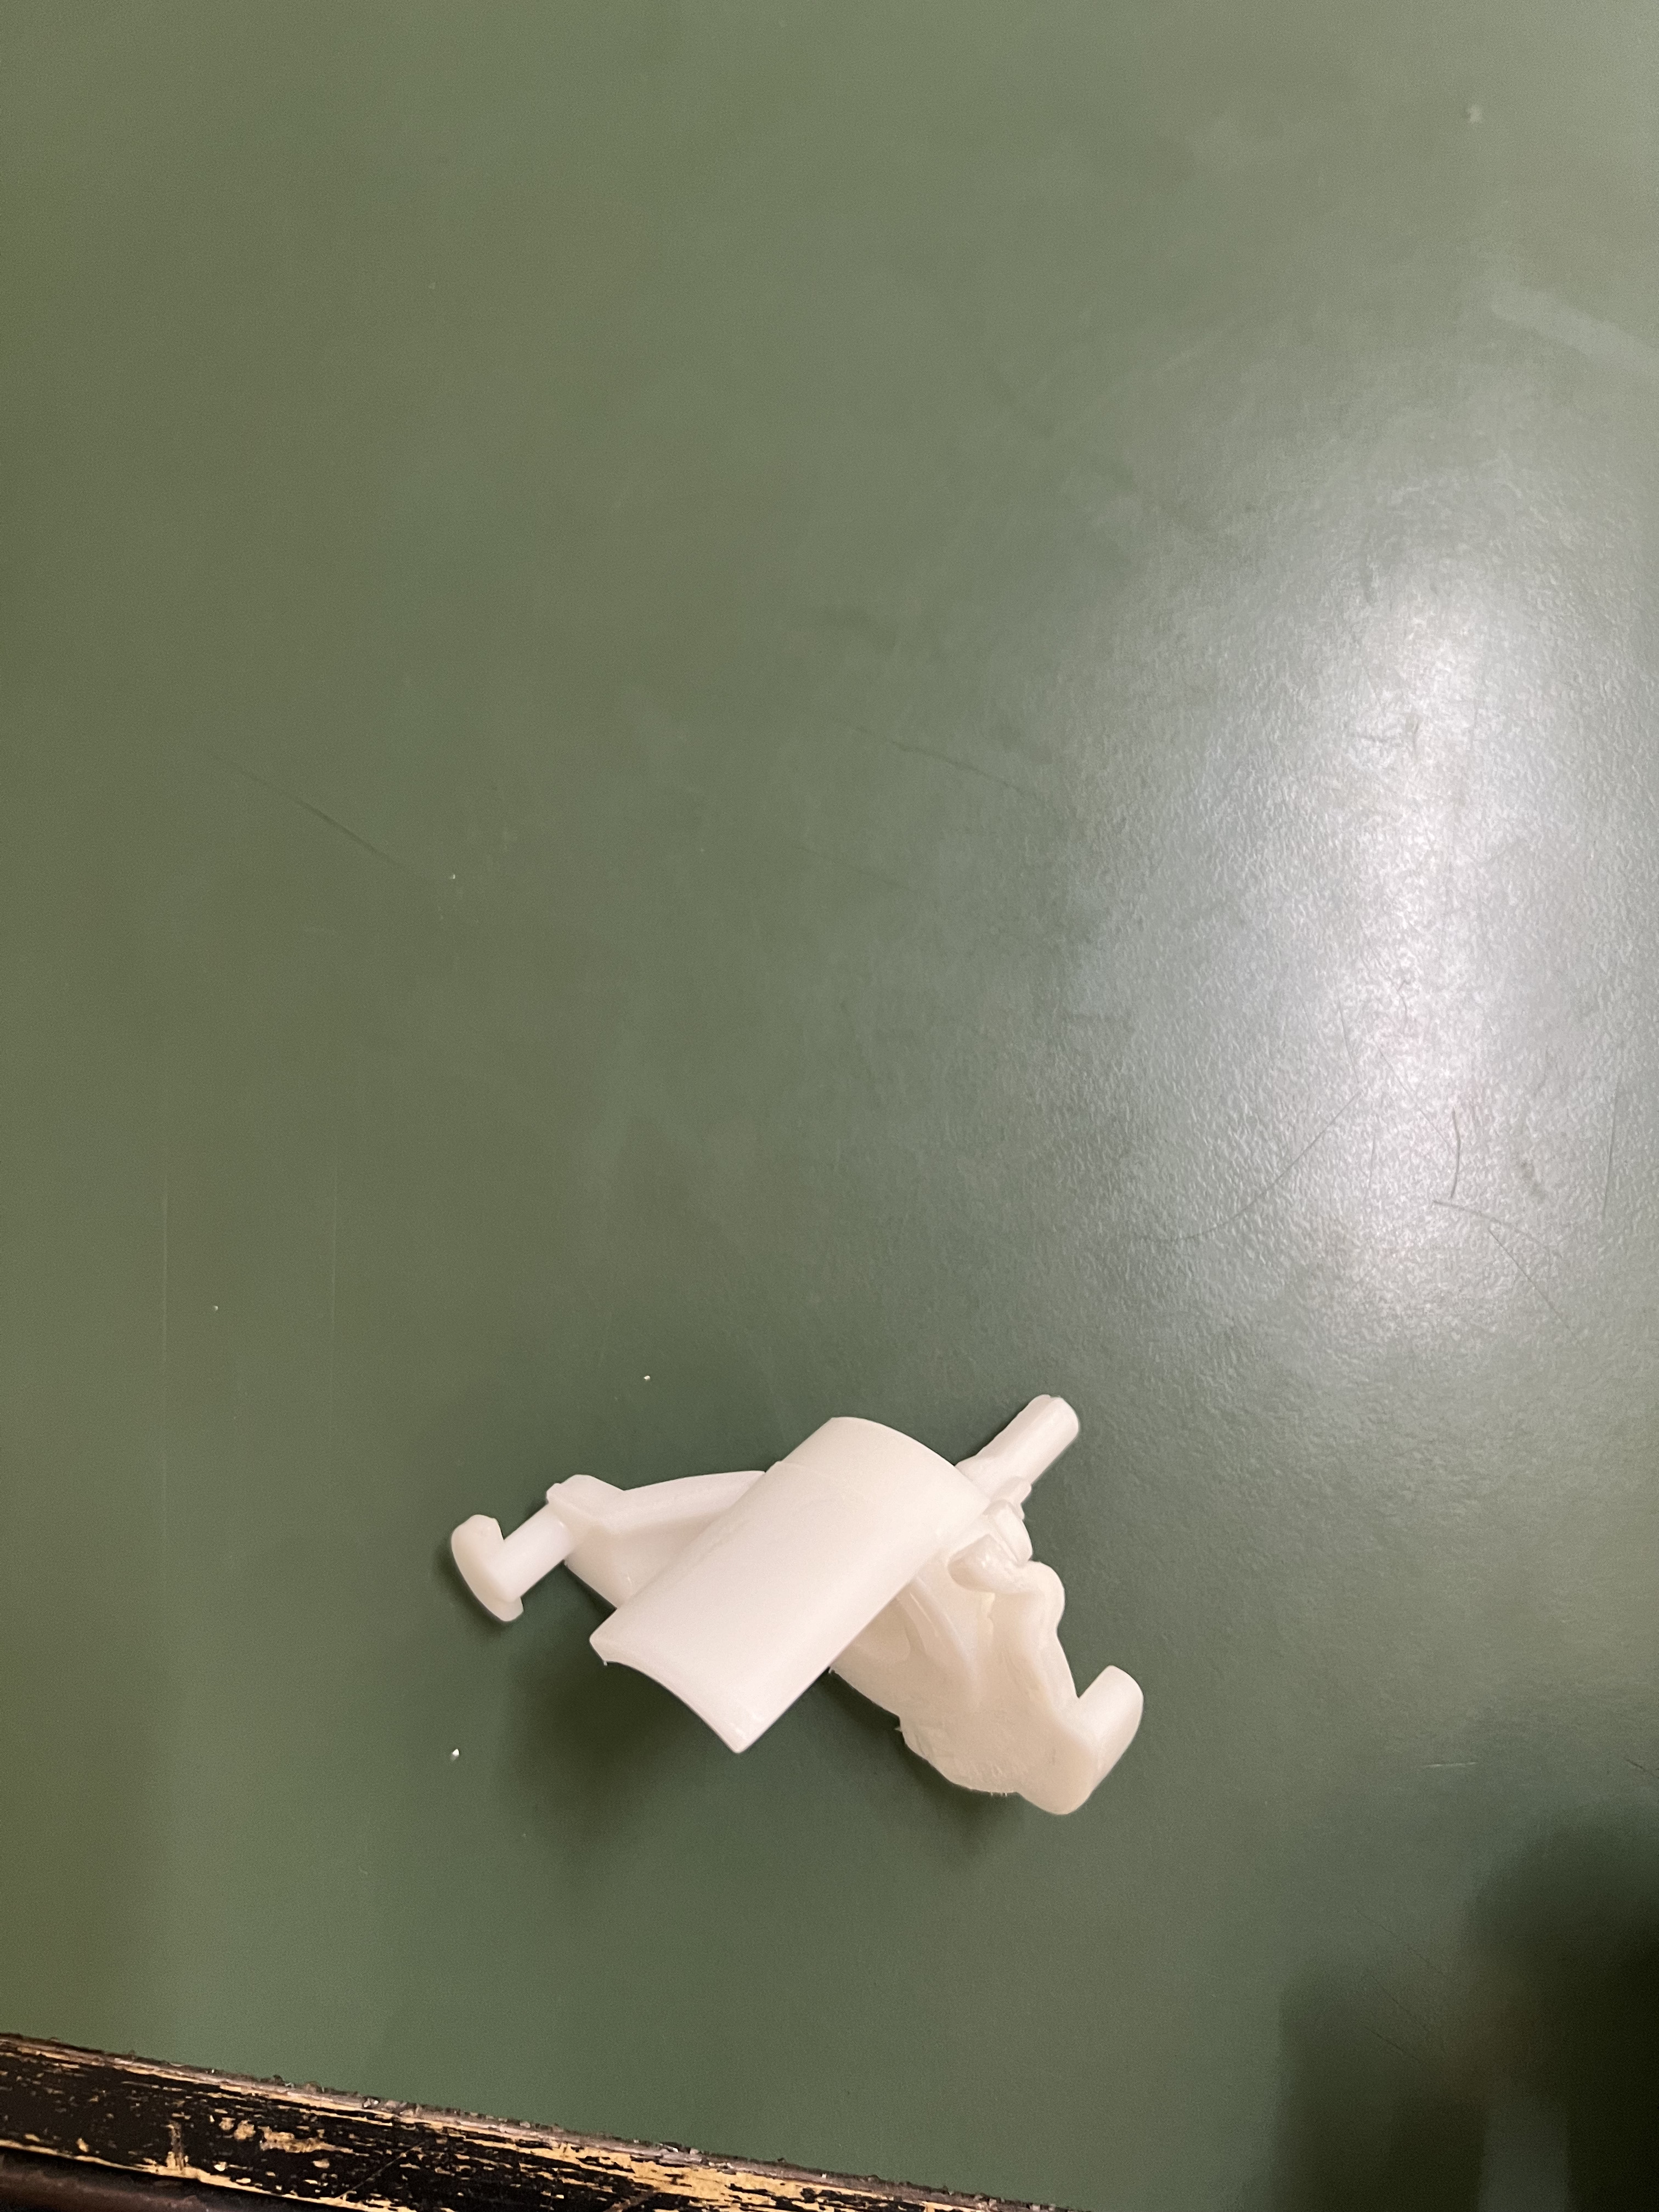drain_lever: (366, 1359, 1183, 1820)
